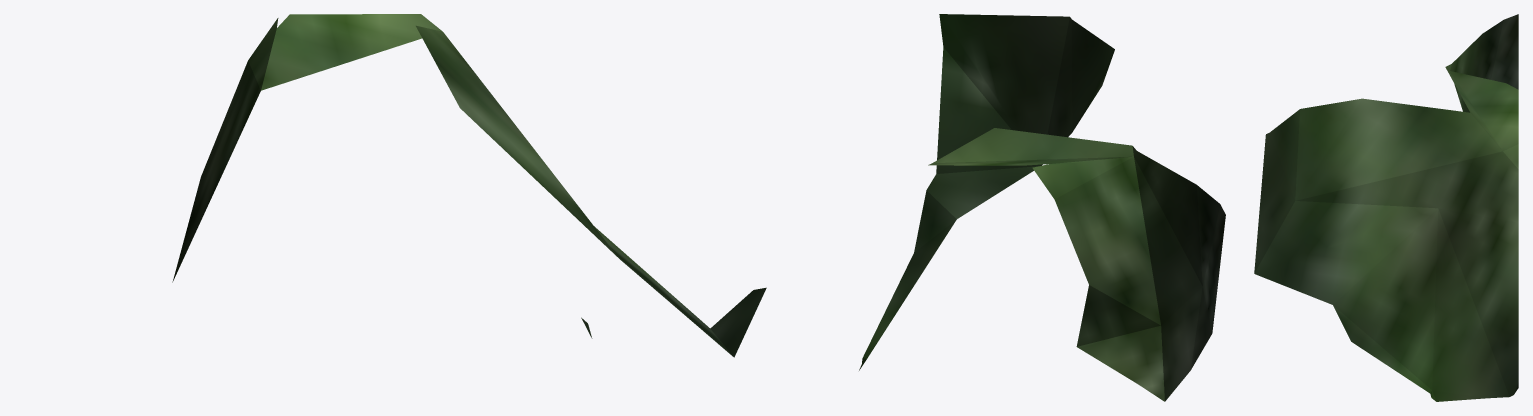
The picture shows the model from 3 angles, left to right: view 1: azimuth 30°, elevation 25°; view 2: azimuth 150°, elevation 25°; view 3: azimuth 270°, elevation 25°; orthographic projection. The views are drawn at different scales.
Bounding box in the file's own units: 3.46 × 2.34 × 2.45.
Materials: 1 (1 with a texture image).
